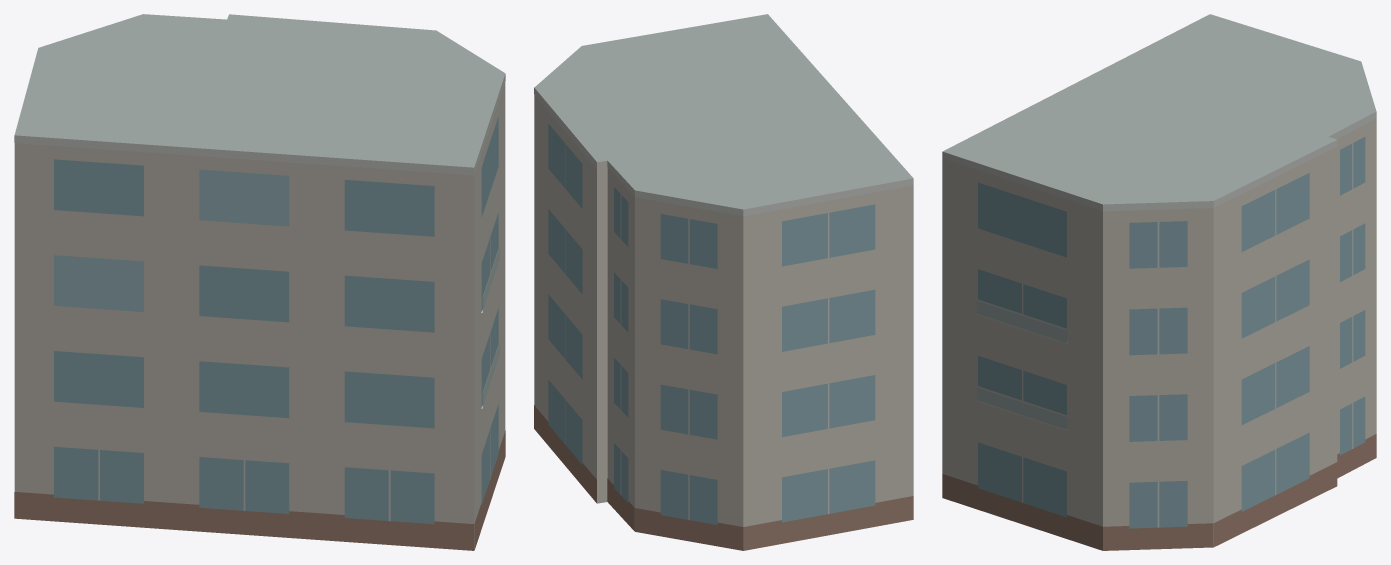
The model's file is survey-upis-33037306.glb.
3 renders of one model, left to right at view 1: azimuth 30°, elevation 25°; view 2: azimuth 150°, elevation 25°; view 3: azimuth 270°, elevation 25°, orthographic. The views are drawn at different scales.
Visible parts, largest first — view 1: survey-upis-33037306.tmp; view 2: survey-upis-33037306.tmp; view 3: survey-upis-33037306.tmp.
Boxes of the visible parts, x1,y1,x2,y2 form: survey-upis-33037306.tmp: (14, 14, 505, 550); survey-upis-33037306.tmp: (534, 14, 913, 550); survey-upis-33037306.tmp: (942, 14, 1376, 550).
Bounding box in the file's own units: 14.4 × 12.2 × 13.87.
